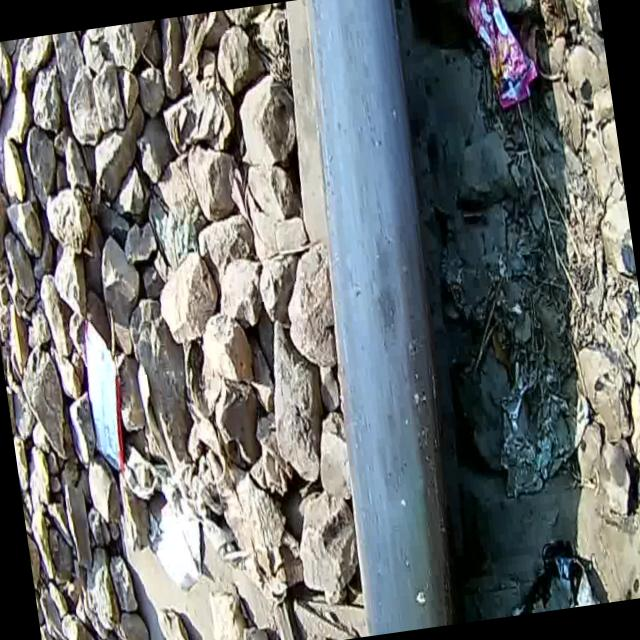Squats: (258, 0, 505, 639)
